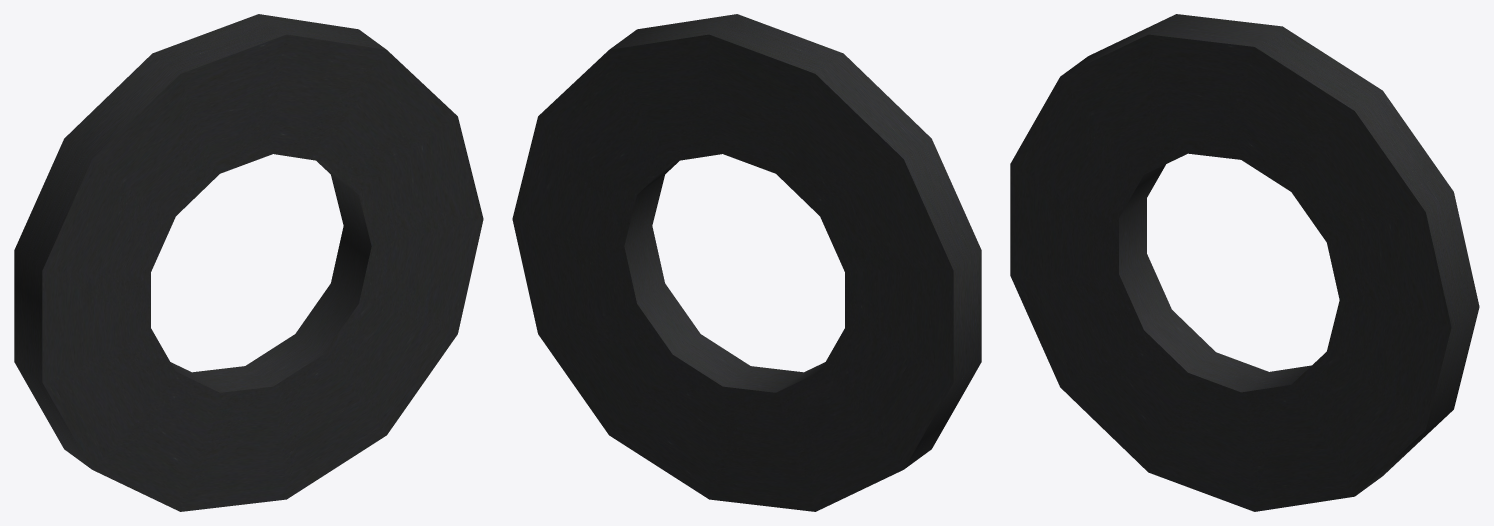
The model's file is Washer1.dae.
3 views of the same model, side by side, from view 1: azimuth 30°, elevation 25°; view 2: azimuth 150°, elevation 25°; view 3: azimuth 330°, elevation 25° (orthographic).
Visible parts, largest first — view 1: Washer1; view 2: Washer1; view 3: Washer1.
Part boxes in pixels (box(x1,y1,x2,y2)): Washer1: box(14, 14, 483, 511); Washer1: box(512, 14, 981, 511); Washer1: box(1010, 14, 1479, 511).
Size of the model in its own units: 0.0153 by 0.00168 by 0.0154.
1 material, 1 textured.
